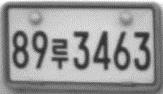3: (72, 30, 90, 69), (133, 31, 150, 71)
4: (92, 30, 111, 70)
6: (112, 30, 131, 70)
8: (11, 30, 29, 68)
9: (31, 29, 48, 68)
루: (50, 38, 69, 69)
